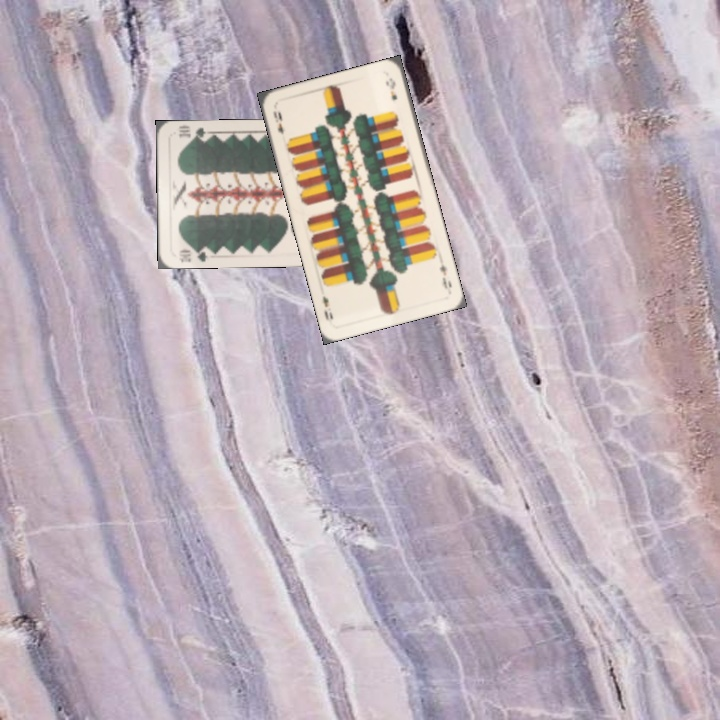E9: (436, 260, 454, 292), (269, 107, 286, 137)
G10: (175, 244, 210, 264)
